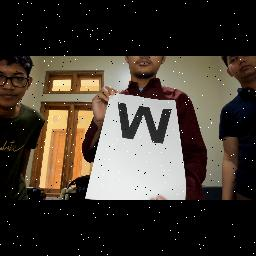w: (114, 97, 176, 147)
